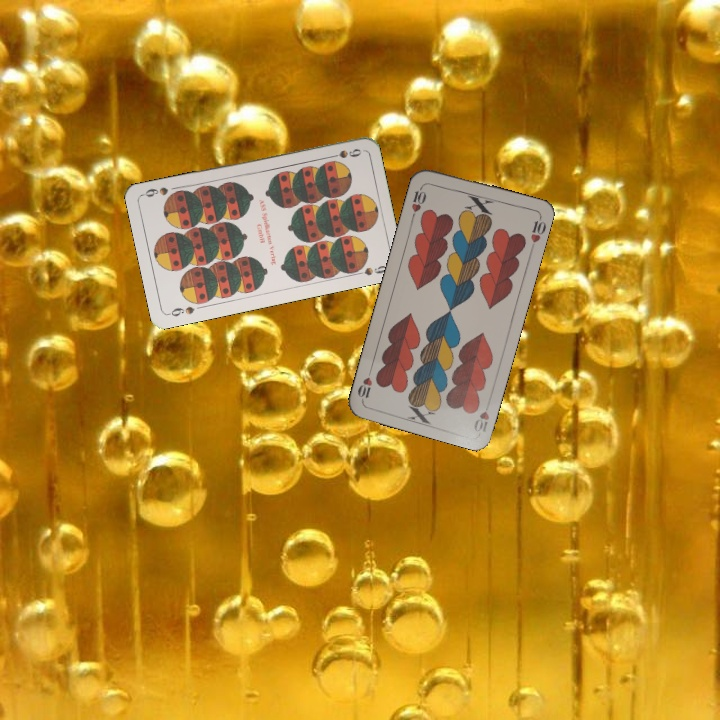H10: (470, 396, 493, 435), (407, 181, 429, 221)
S9: (324, 145, 364, 161), (164, 302, 197, 319)
